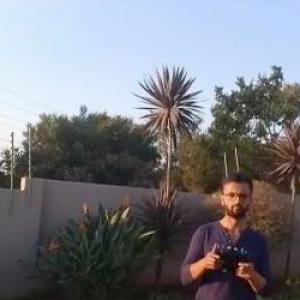follow: (175, 161, 281, 299)
